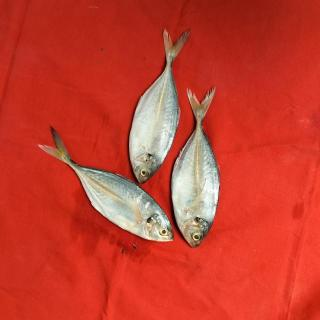Ikan: (41, 24, 227, 252)
